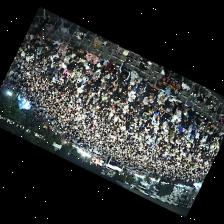person: (118, 56, 130, 80), (158, 86, 170, 103), (174, 103, 183, 124), (153, 94, 164, 111), (86, 51, 99, 65), (147, 83, 159, 98), (166, 95, 179, 108), (163, 108, 172, 126), (181, 104, 191, 120), (131, 70, 142, 84), (109, 70, 119, 85), (66, 42, 78, 54), (74, 49, 86, 60), (63, 54, 72, 68), (136, 85, 147, 96), (105, 62, 116, 73), (137, 78, 147, 90), (129, 86, 137, 101), (52, 38, 62, 50), (135, 101, 144, 114), (174, 121, 182, 135), (144, 90, 152, 104), (179, 121, 187, 135), (196, 114, 204, 128), (126, 78, 135, 90), (94, 77, 101, 92), (188, 110, 196, 123), (73, 61, 83, 71), (101, 73, 112, 82), (118, 80, 127, 91), (89, 64, 99, 73), (44, 37, 54, 46), (79, 56, 88, 66), (81, 66, 89, 77), (60, 40, 69, 49), (87, 74, 96, 83), (73, 70, 82, 79), (97, 58, 107, 66), (139, 94, 145, 107), (169, 127, 175, 139), (209, 124, 217, 133), (93, 69, 101, 78), (110, 82, 118, 91), (57, 49, 66, 57), (192, 122, 198, 134), (101, 65, 107, 76), (164, 68, 172, 76), (41, 46, 50, 53), (216, 127, 223, 136), (40, 33, 45, 44), (69, 53, 75, 62), (84, 65, 90, 73), (36, 33, 41, 42), (59, 55, 65, 62)
